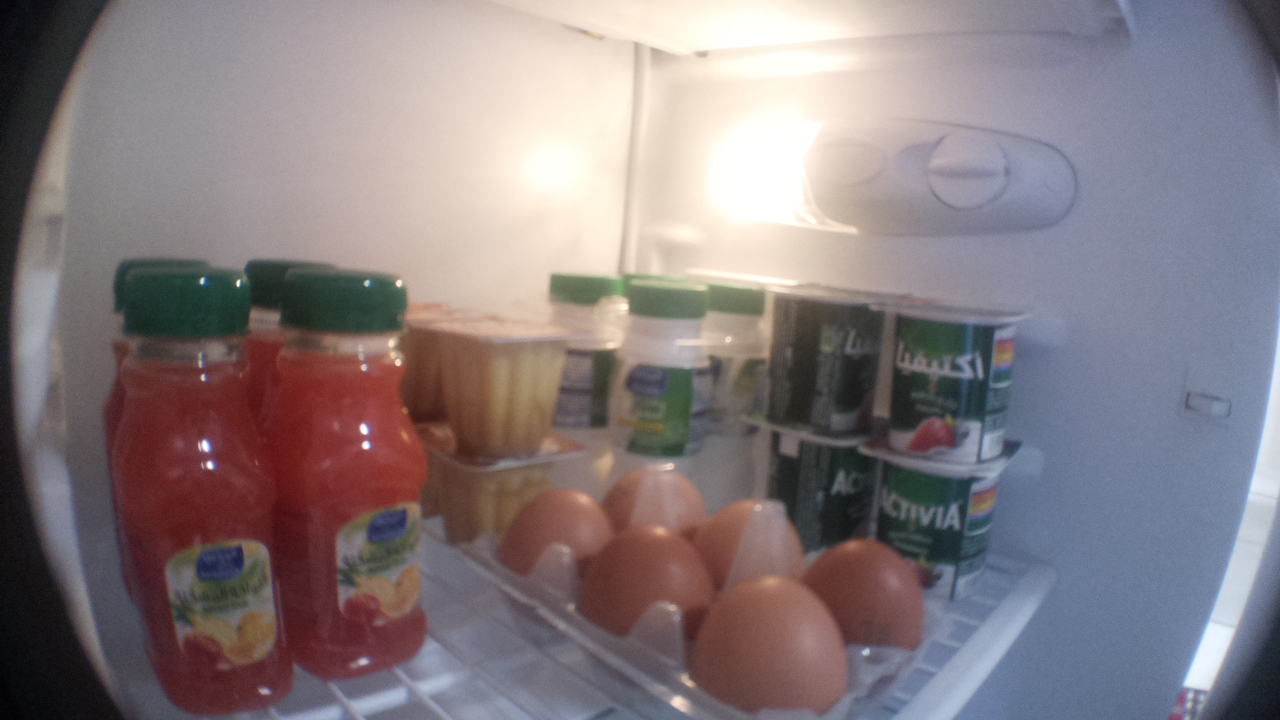caramel: (435, 311, 587, 464), (436, 431, 568, 544), (395, 307, 464, 429)
egg: (693, 577, 847, 720), (574, 525, 715, 635), (809, 539, 927, 649), (498, 482, 608, 576), (695, 500, 809, 579), (611, 461, 704, 532)
juice: (114, 260, 288, 712), (272, 262, 423, 689), (238, 251, 336, 368)
laban: (616, 279, 709, 463), (705, 276, 765, 501), (548, 273, 621, 449)
yoghurt: (867, 294, 1041, 462), (874, 456, 1027, 608), (761, 280, 898, 430), (755, 432, 875, 539)
